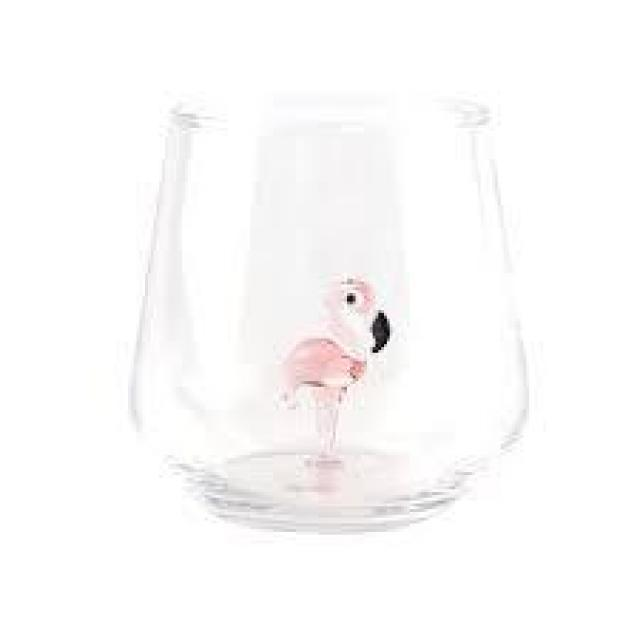glass: (120, 91, 536, 535)
